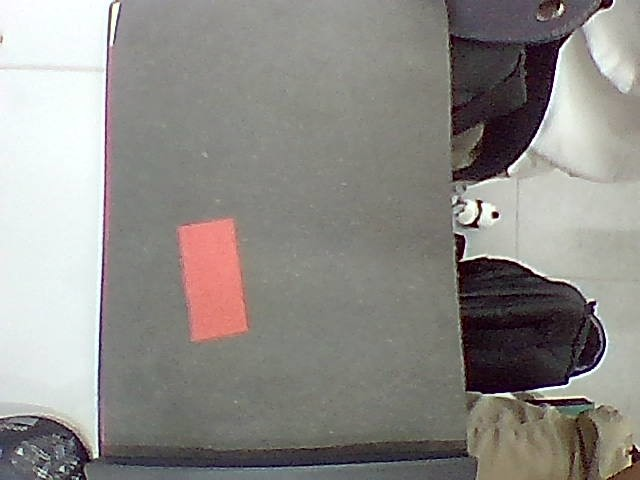card: (178, 219, 248, 341)
